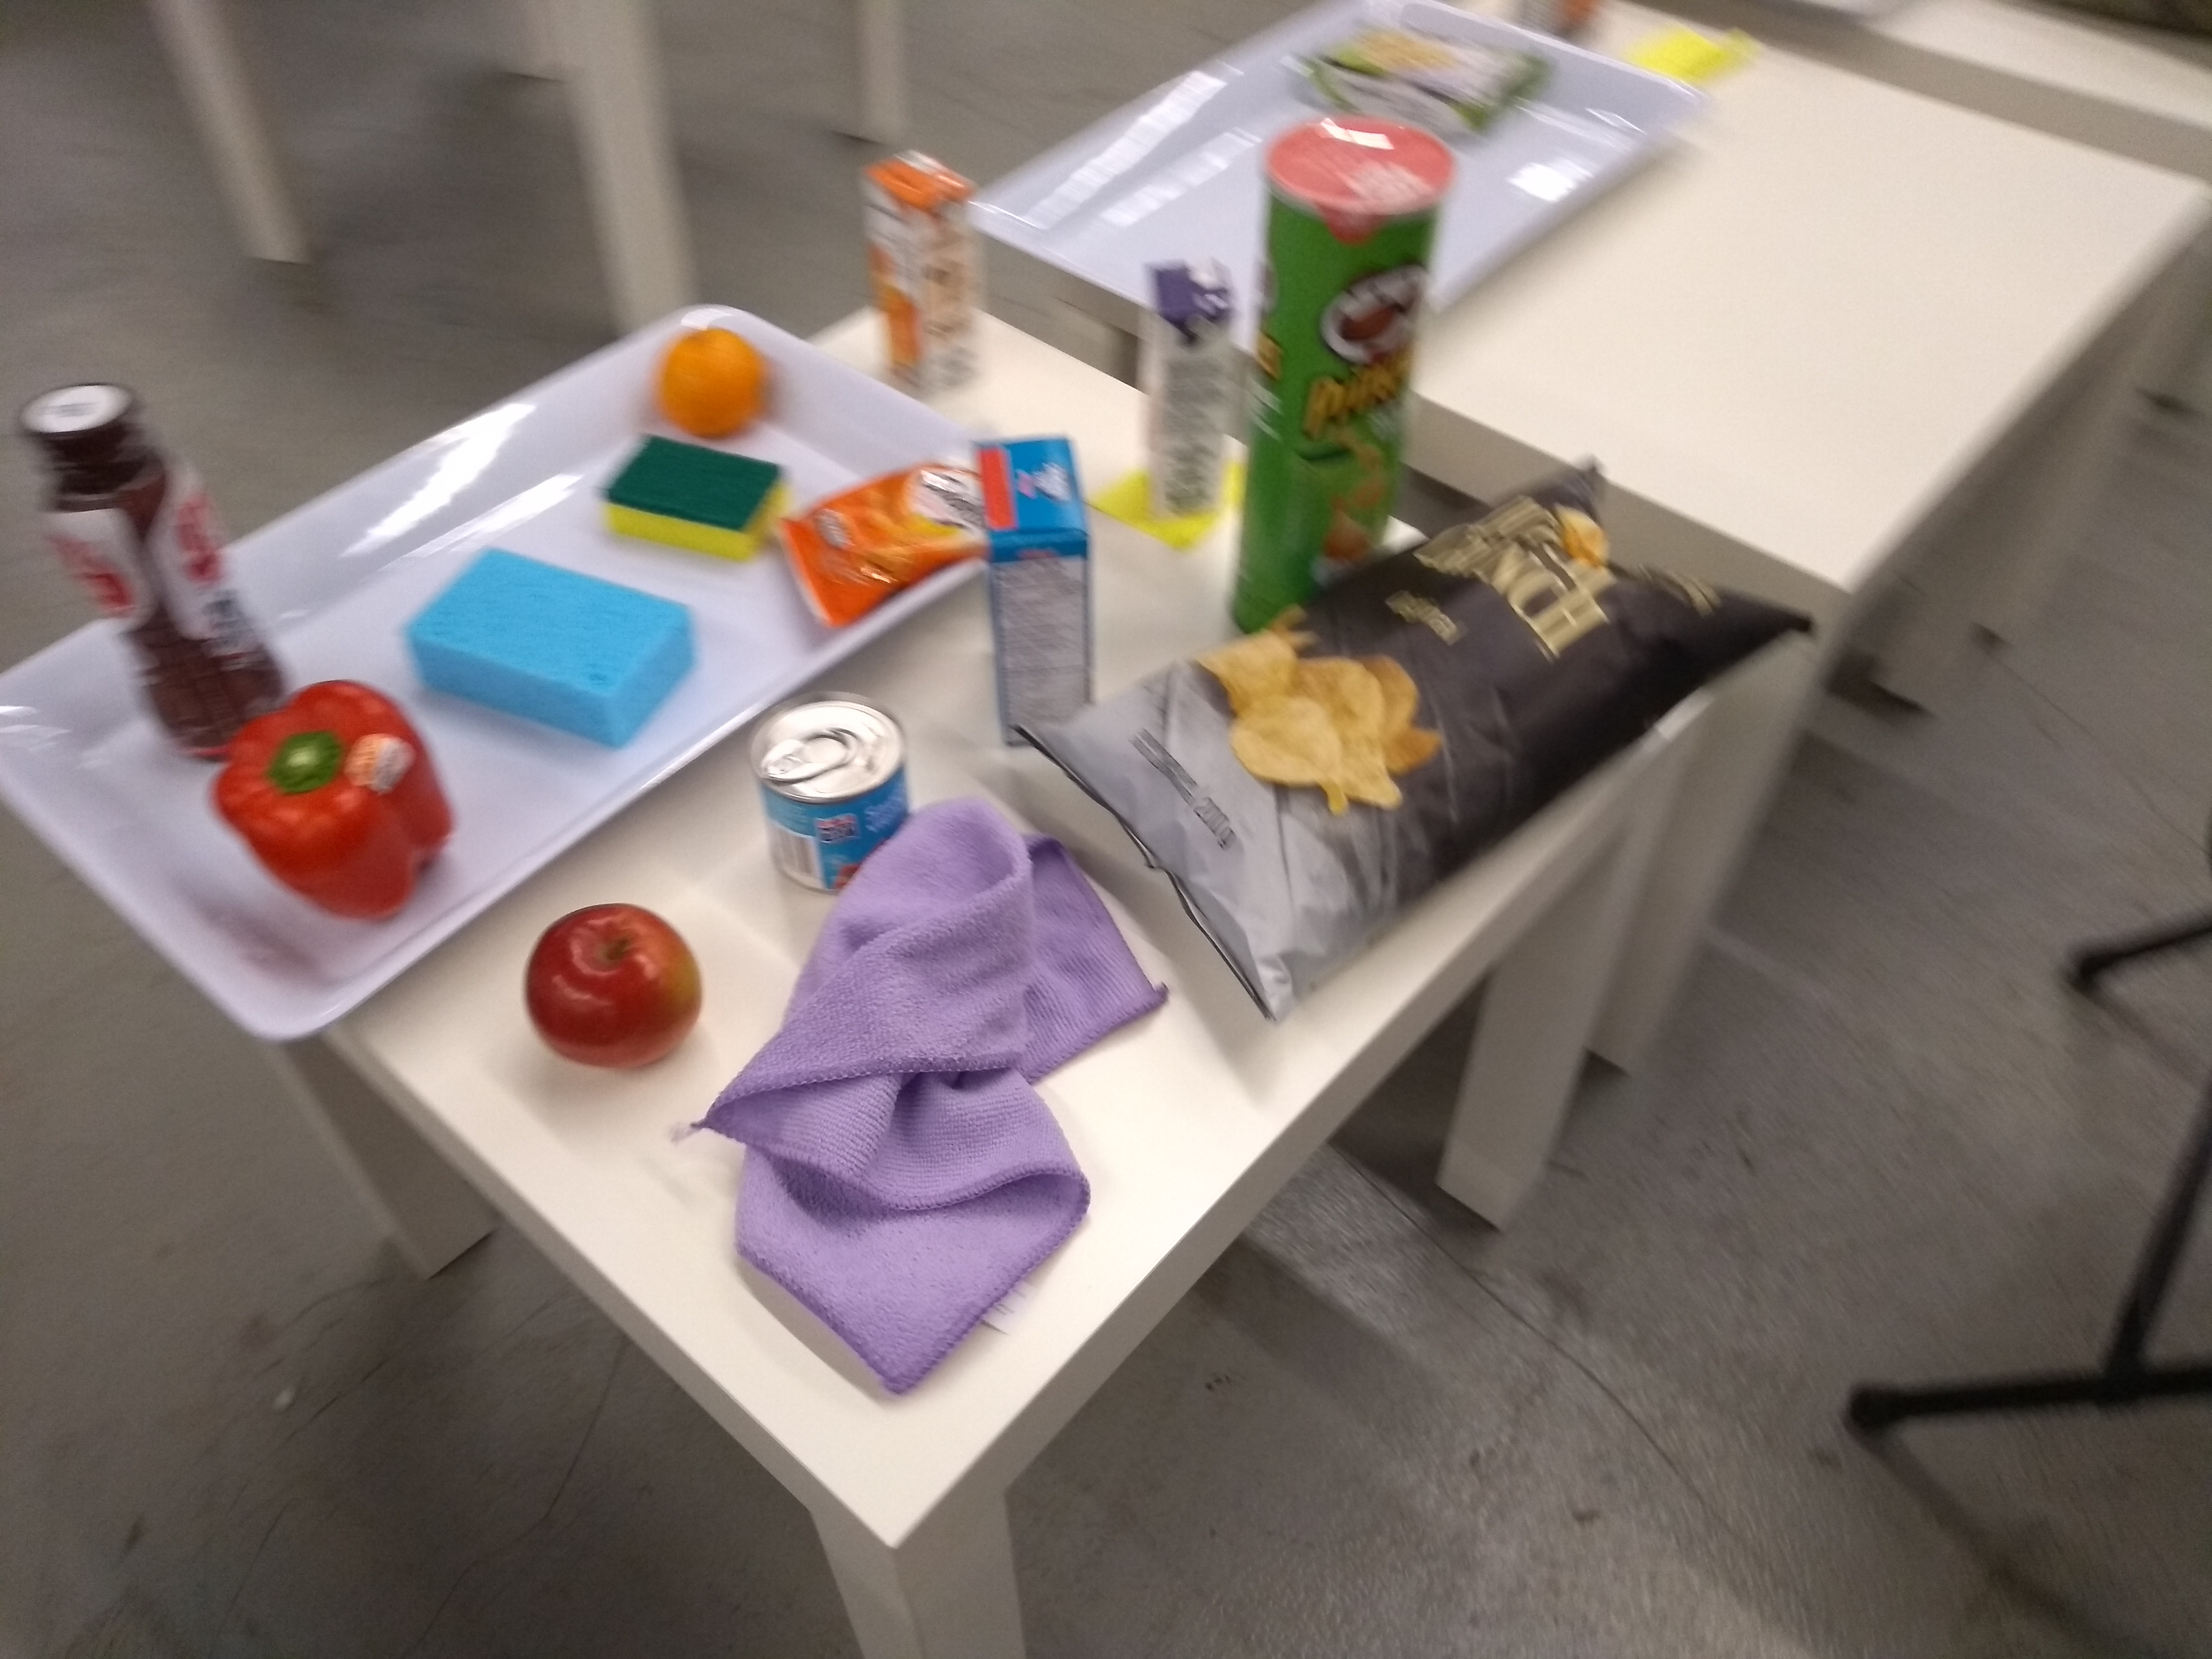apple: (517, 899, 718, 1080)
cereal: (965, 427, 1109, 748)
chocolate_drink: (23, 369, 298, 769)
cloth_opl: (685, 791, 1176, 1401)
grape_juice: (1129, 258, 1242, 530)
orange: (651, 319, 779, 443)
orange_juice: (850, 141, 996, 416)
paprika: (206, 680, 470, 934)
potato_chips: (998, 437, 1834, 1026)
pringles: (1214, 108, 1468, 648)
sausages: (744, 697, 911, 913)
scrubby: (601, 425, 789, 568)
sponge_opl: (394, 549, 704, 753)
